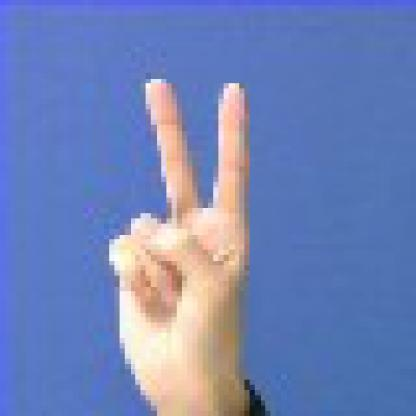two: (92, 70, 270, 416)
